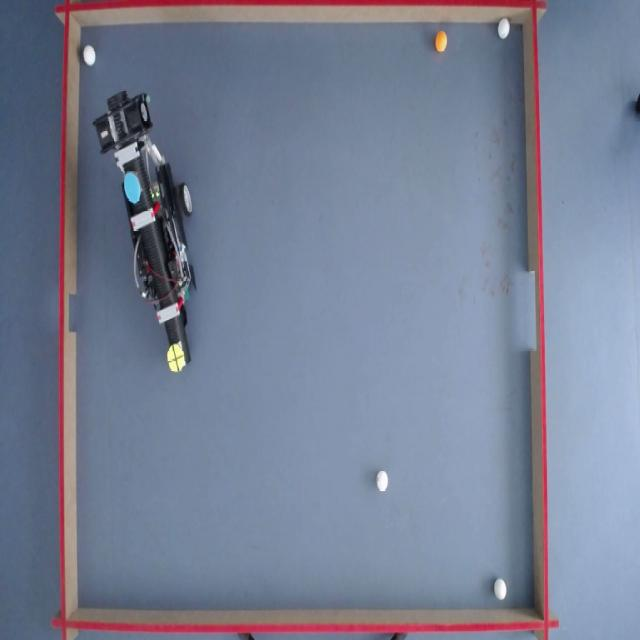orange: (435, 31, 449, 54)
robot: (87, 84, 199, 370)
robot-front: (165, 343, 186, 371)
robot-rear: (121, 172, 142, 208)
white: (495, 578, 509, 601), (498, 18, 512, 39), (83, 46, 96, 68), (376, 470, 388, 492)
